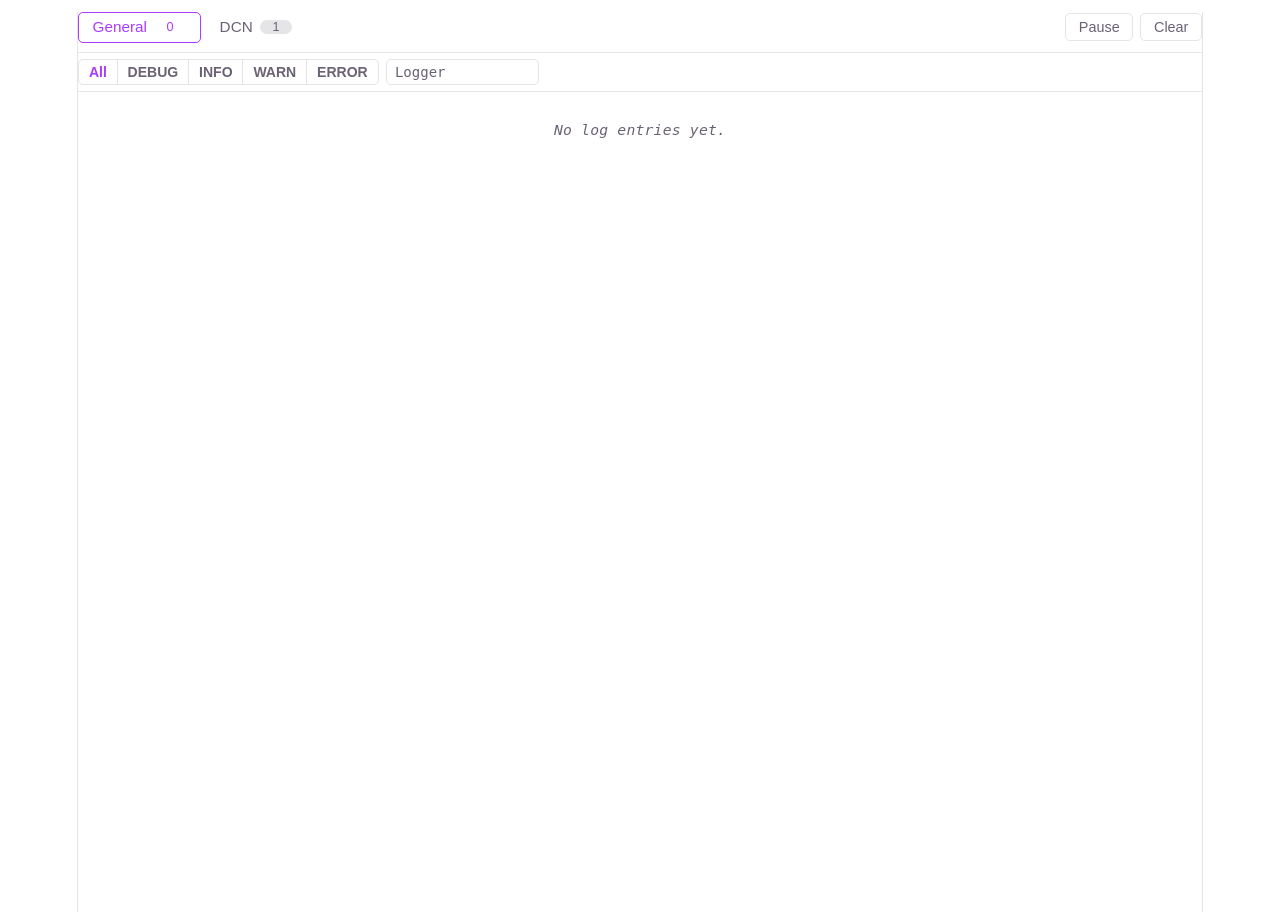
Test: LogView › RX entries have dcn-rx class
The width and height of the screenshot is (1280, 912).
What coordinates should you click on to do the following:
click the button with class "tab" showing "DCN 1"
I would click on:
 (256, 27)
Its box is [205,12,306,43].
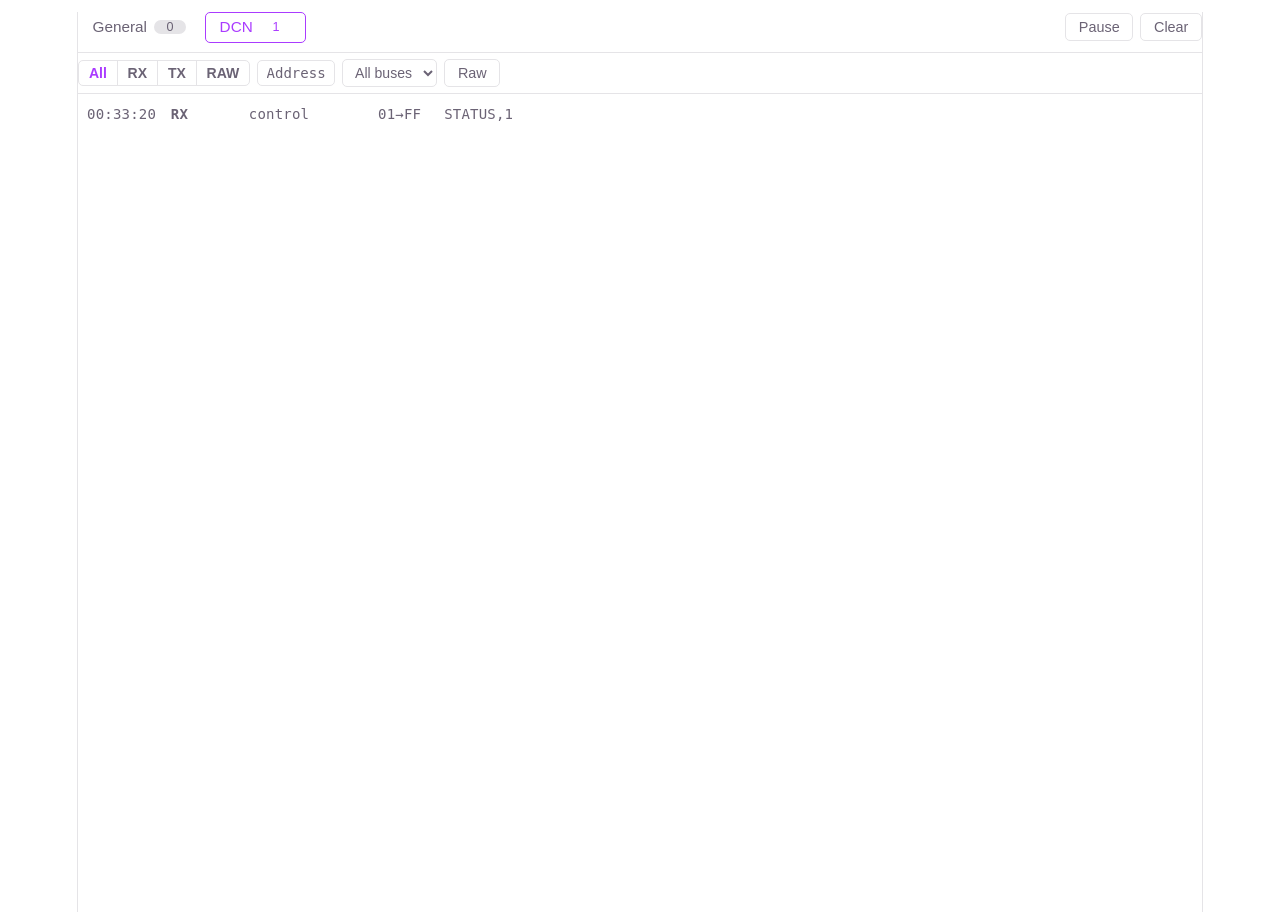
Result: the element with class "dcn-rx" is shown at [87,106,513,122]
